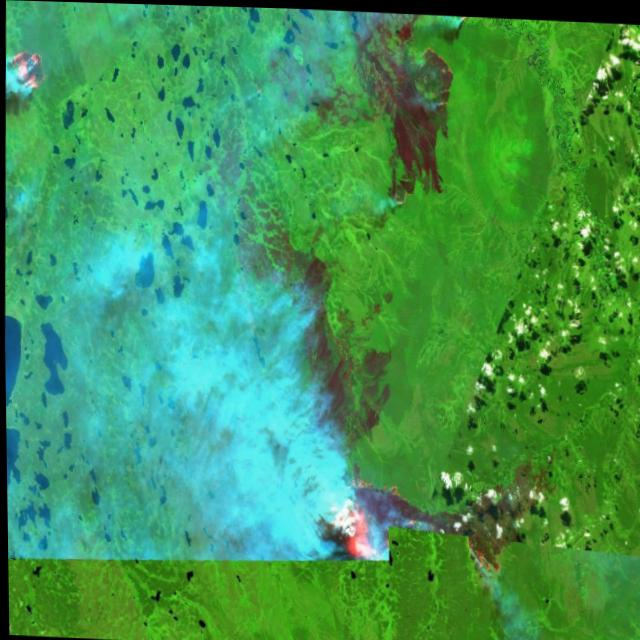fire: (308, 459, 433, 574), (410, 37, 468, 102), (449, 520, 509, 582), (4, 39, 51, 103), (376, 161, 418, 221)
